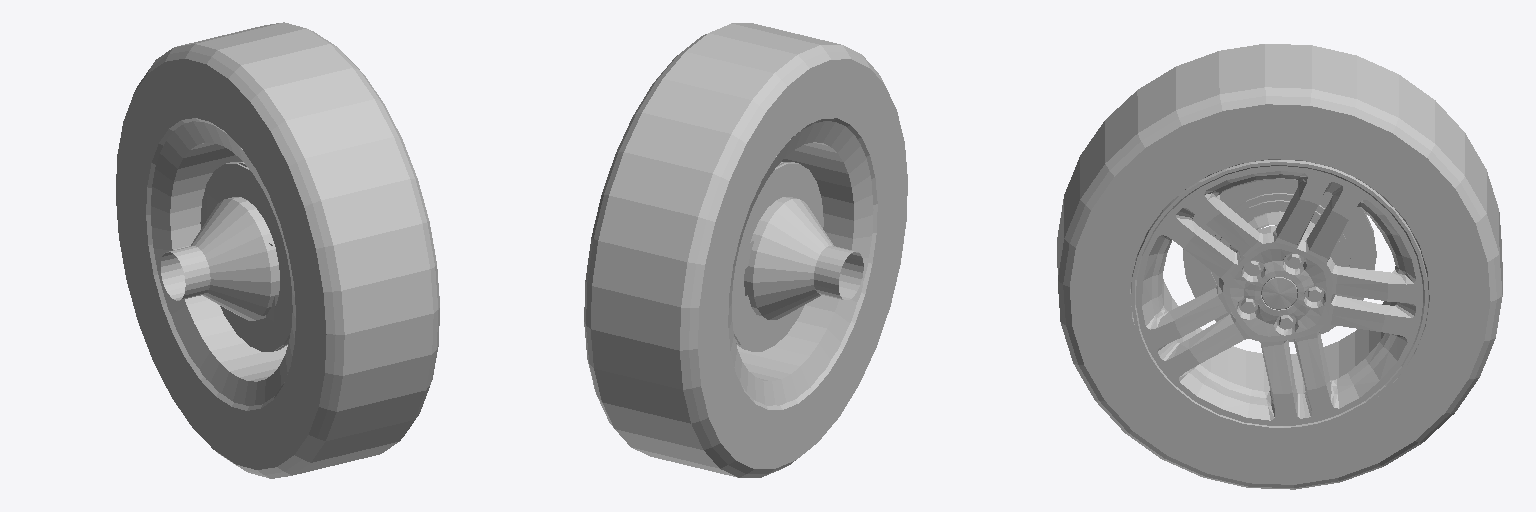
The model's file is FrontLeft_Truck.obj.
The picture shows the model from 3 angles: view 1: azimuth 30°, elevation 25°; view 2: azimuth 150°, elevation 25°; view 3: azimuth 270°, elevation 25°; orthographic projection.
Visible parts, largest first — view 1: VorneLinks_uploads_files_862940_silverado.004; view 2: VorneLinks_uploads_files_862940_silverado.004; view 3: VorneLinks_uploads_files_862940_silverado.004.
Part boxes in pixels (bbox=[...]): VorneLinks_uploads_files_862940_silverado.004: bbox=[116, 22, 439, 478]; VorneLinks_uploads_files_862940_silverado.004: bbox=[584, 23, 907, 477]; VorneLinks_uploads_files_862940_silverado.004: bbox=[1057, 44, 1502, 489].
Bounding box in the file's own units: 0.5278 × 1.22 × 1.22.